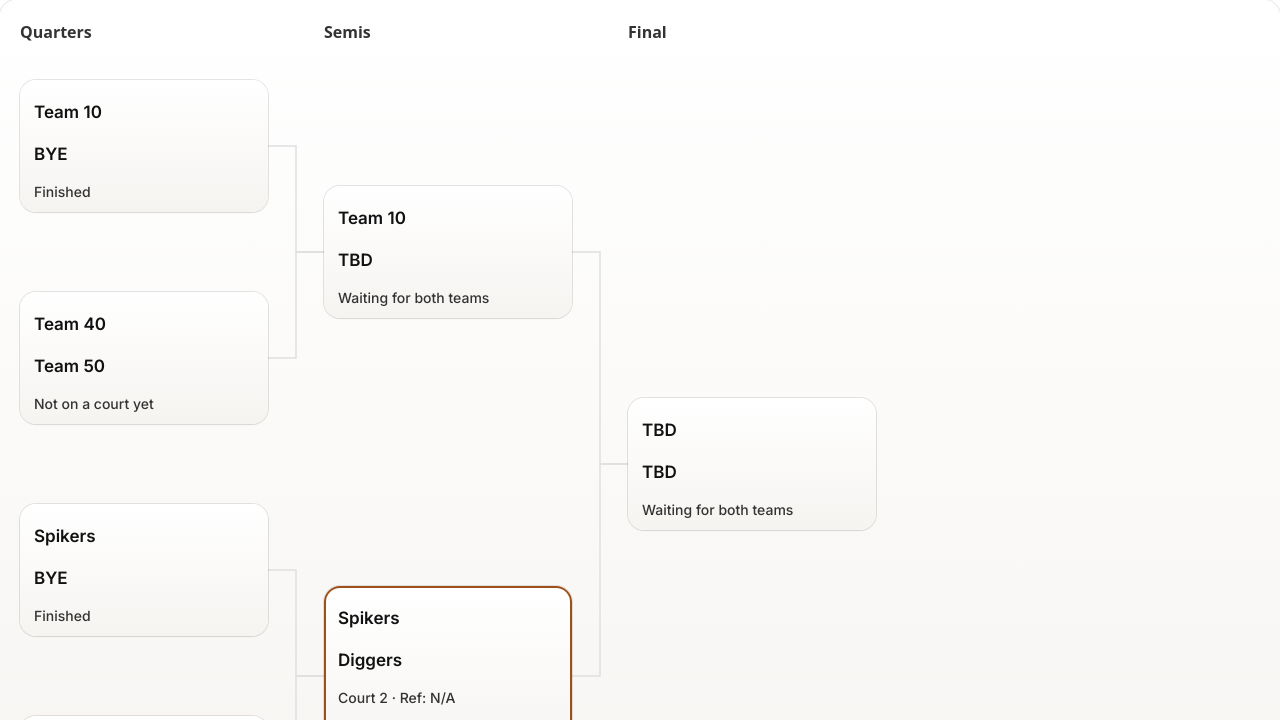
a scorekeeper can hold a match from its panel and go to its court, but not schedule or ref it
What coordinates should you click on to do the following:
click the button with aria-label "Semis · match 2: Spikers vs Diggers"
I would click on:
 (448, 639)
Its box is [328, 590, 568, 688].
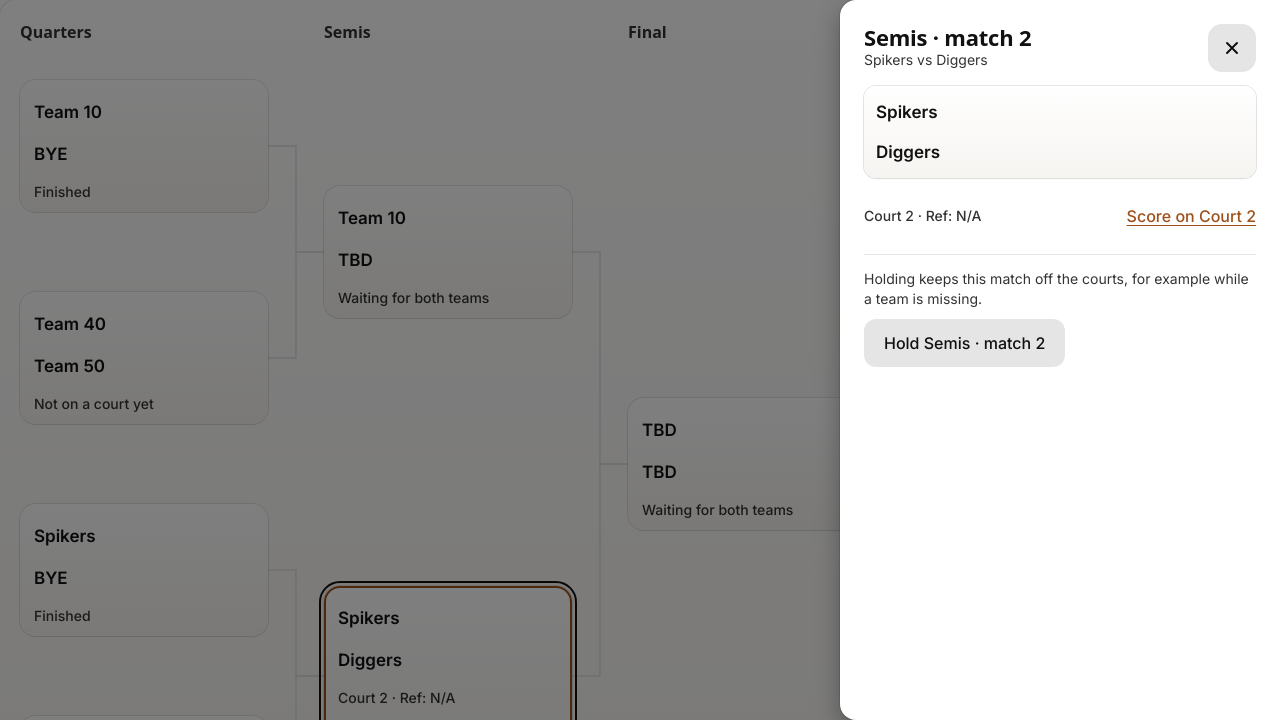
expect the link "Score on Court 2" is shown: met, box [1127, 206, 1256, 226]
expect the button "Hold Semis · match 2" is shown: met, box [864, 319, 1065, 367]
